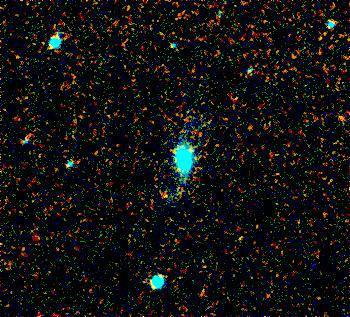star: (153, 187, 183, 217)
